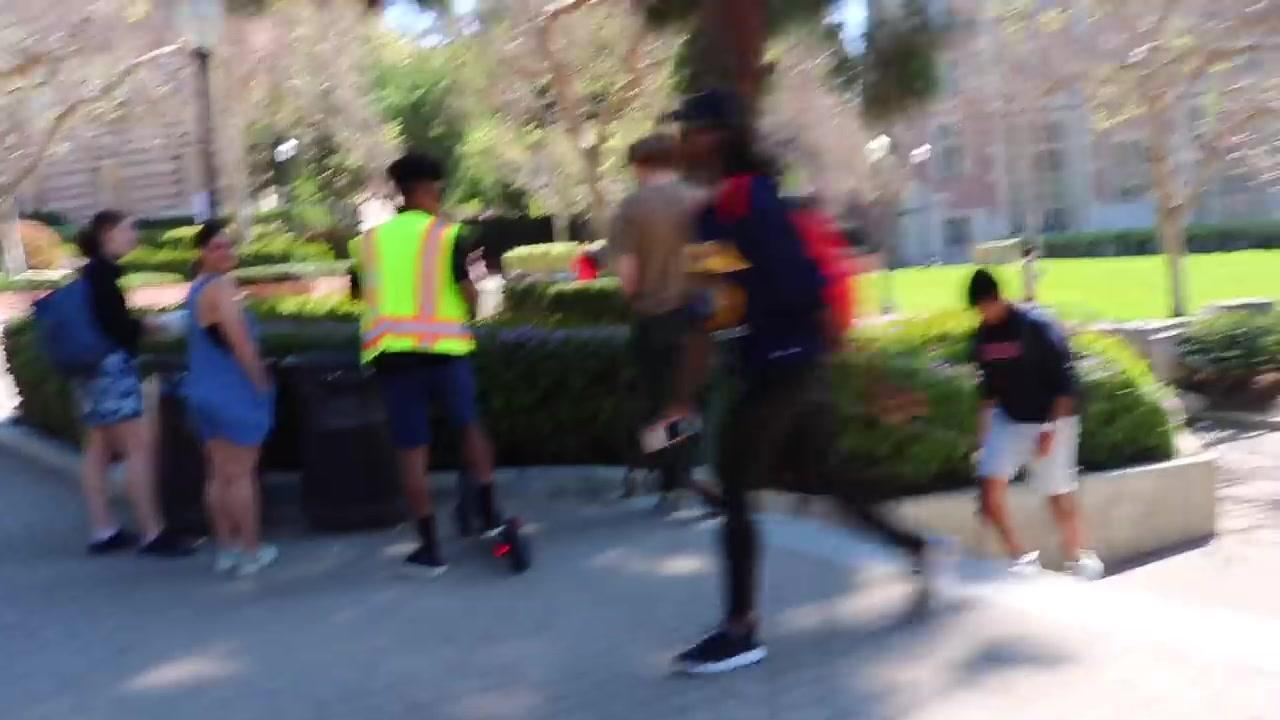vest: (347, 210, 476, 361)
